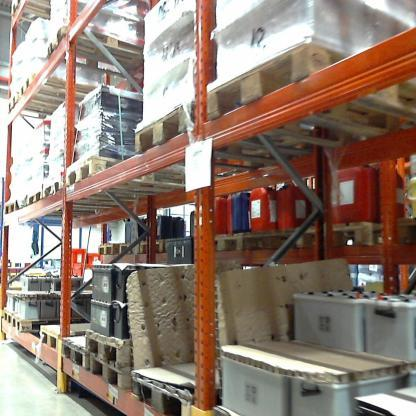pallets: (128, 33, 416, 163), (1, 306, 194, 413), (0, 153, 183, 216)
